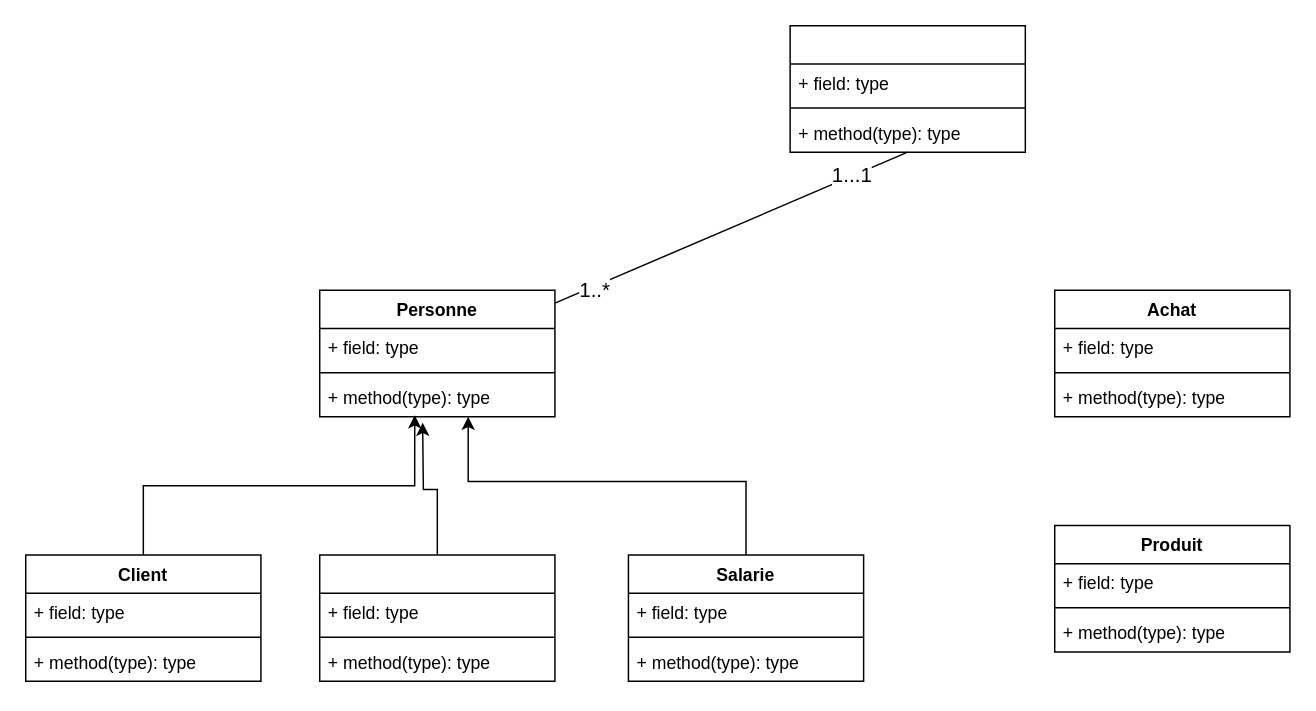
This 1316x711 diagram has some shape labels left out. The box of each missing label's shape, as (x1, y1, x2, y2) in pixels:
Entreprise: (789, 24, 1025, 152)
Fournisseur: (318, 553, 555, 681)
